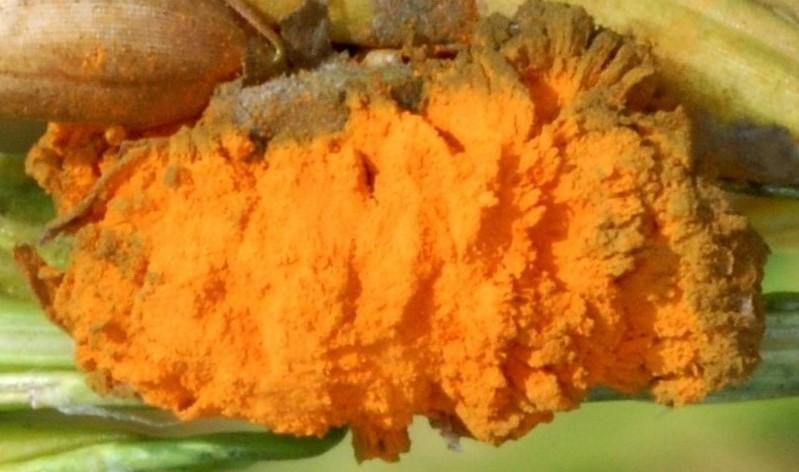False Smut: (0, 1, 799, 472)
